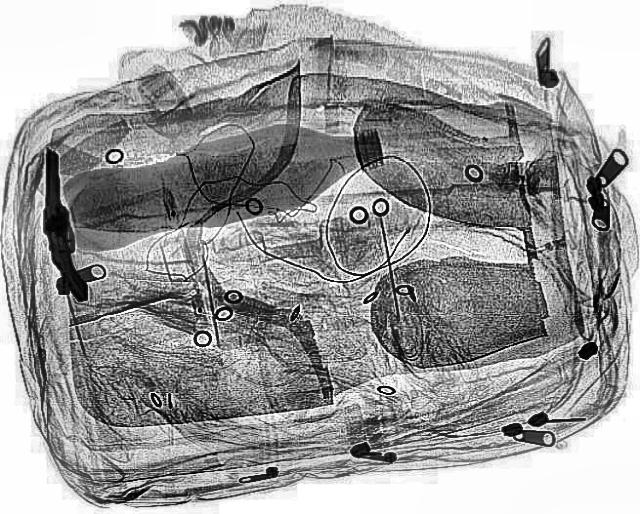Gun: (36, 146, 86, 306)
